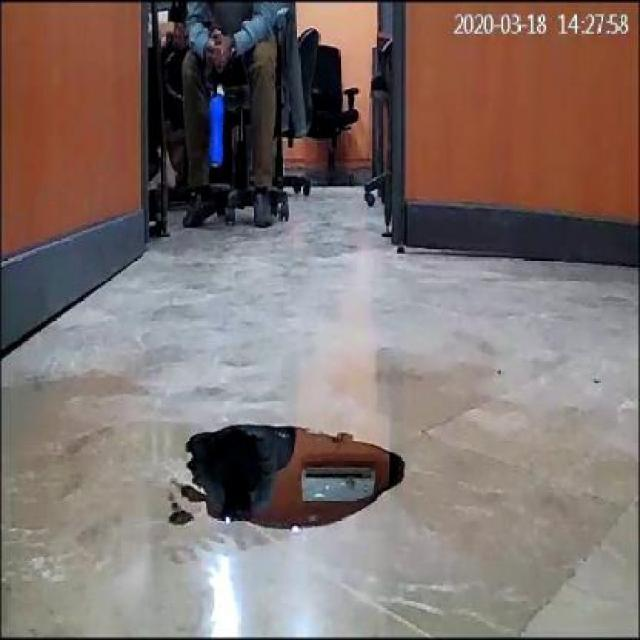spill: (182, 421, 406, 534)
